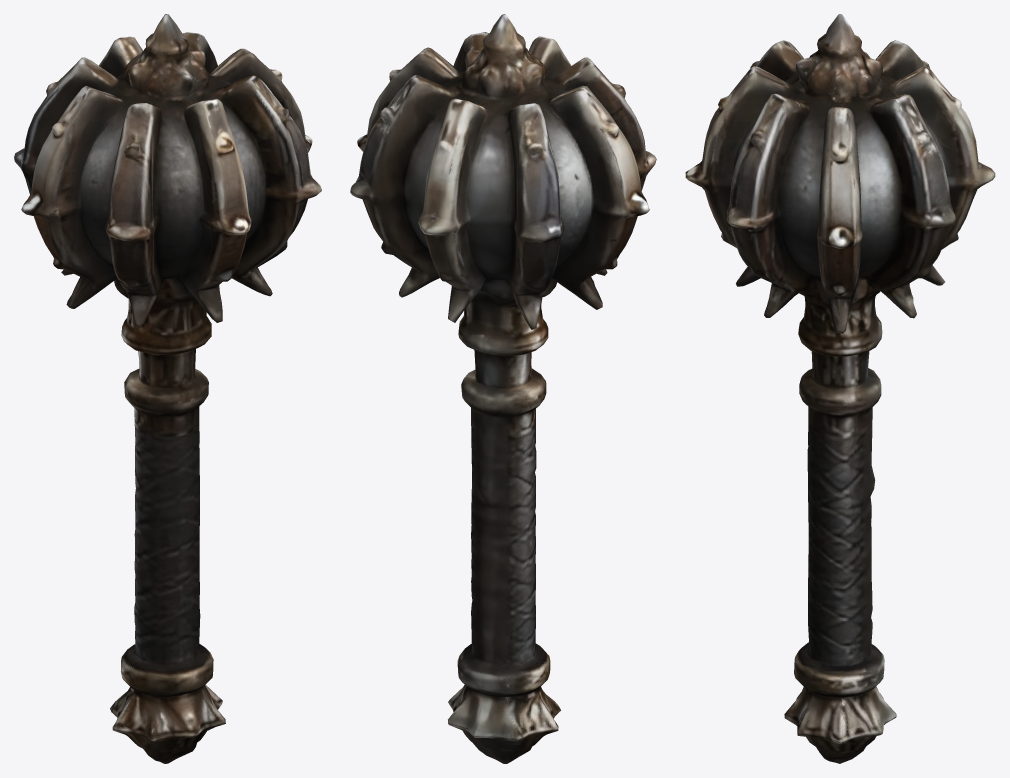
File: ribbed_mace.glb
The picture shows the model from 3 angles, left to right: view 1: azimuth 30°, elevation 25°; view 2: azimuth 150°, elevation 25°; view 3: azimuth 270°, elevation 25°; orthographic projection.
Visible parts, largest first — view 1: ribbed_mace; view 2: ribbed_mace; view 3: ribbed_mace.
Boxes of the visible parts, x1,y1,x2,y2 form: ribbed_mace: (14,14,321,763); ribbed_mace: (350,14,656,763); ribbed_mace: (685,14,995,763).
Size of the model in its own units: 0.2933 by 0.724 by 0.2719.
1 material, 1 textured.
